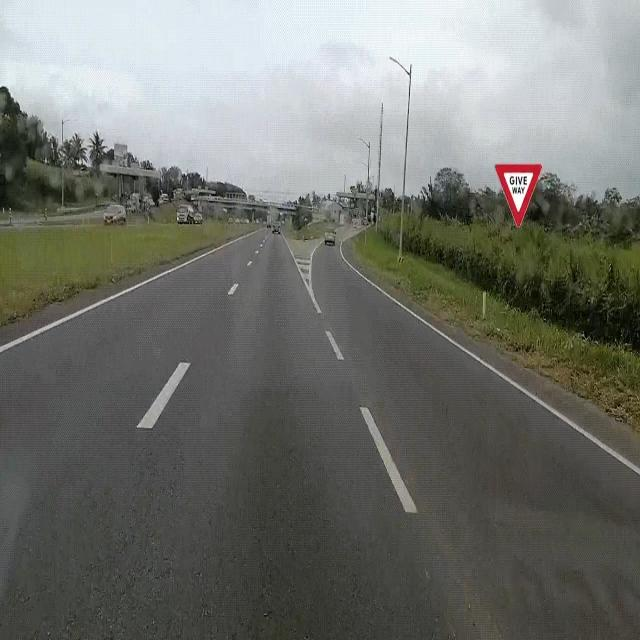Ceder-le-Passage: (492, 154, 546, 235)
